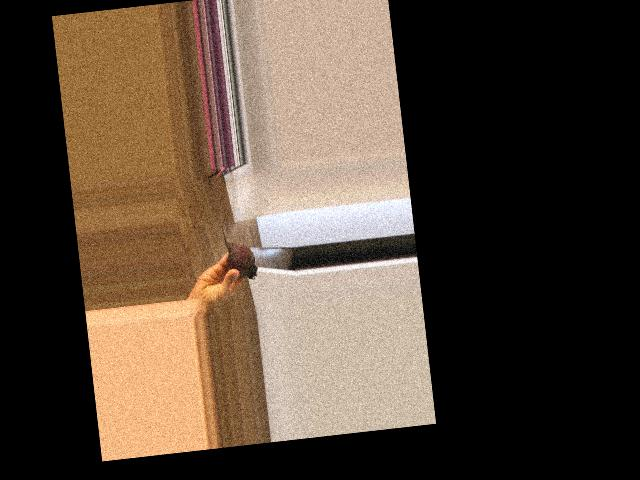beet: (220, 213, 258, 281)
